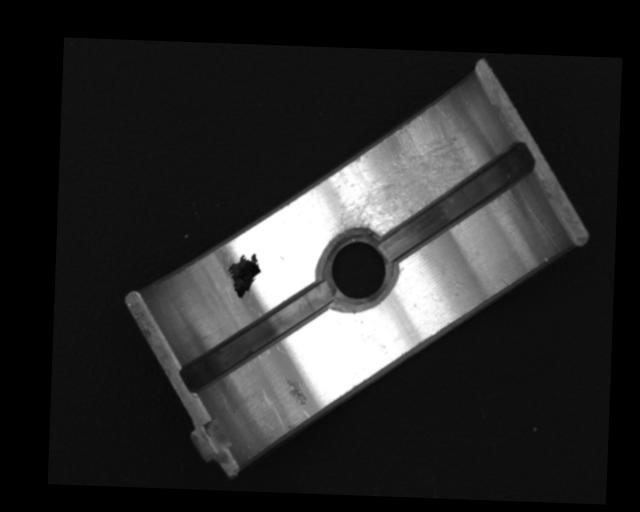blot: (226, 252, 263, 301)
bruise: (283, 376, 309, 406)
gap: (378, 140, 535, 267), (179, 279, 330, 399)
hole: (316, 227, 400, 312)
scratch: (335, 97, 478, 243)
